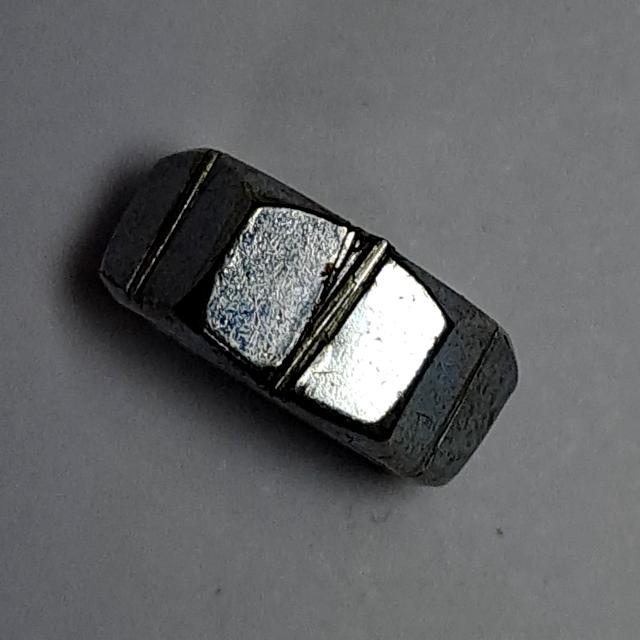Side_Scratches: (87, 136, 542, 500)
